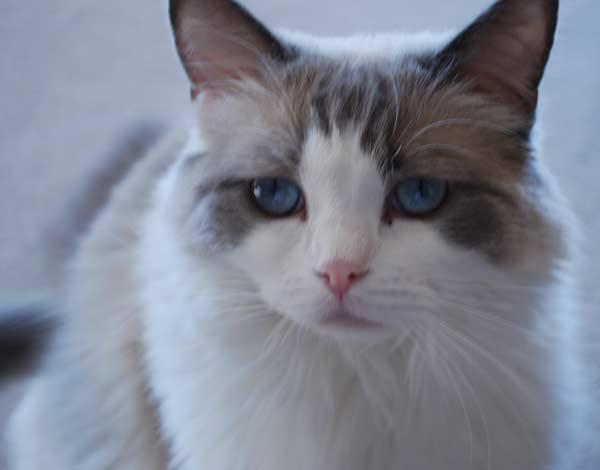ragdoll: (167, 1, 563, 359)
